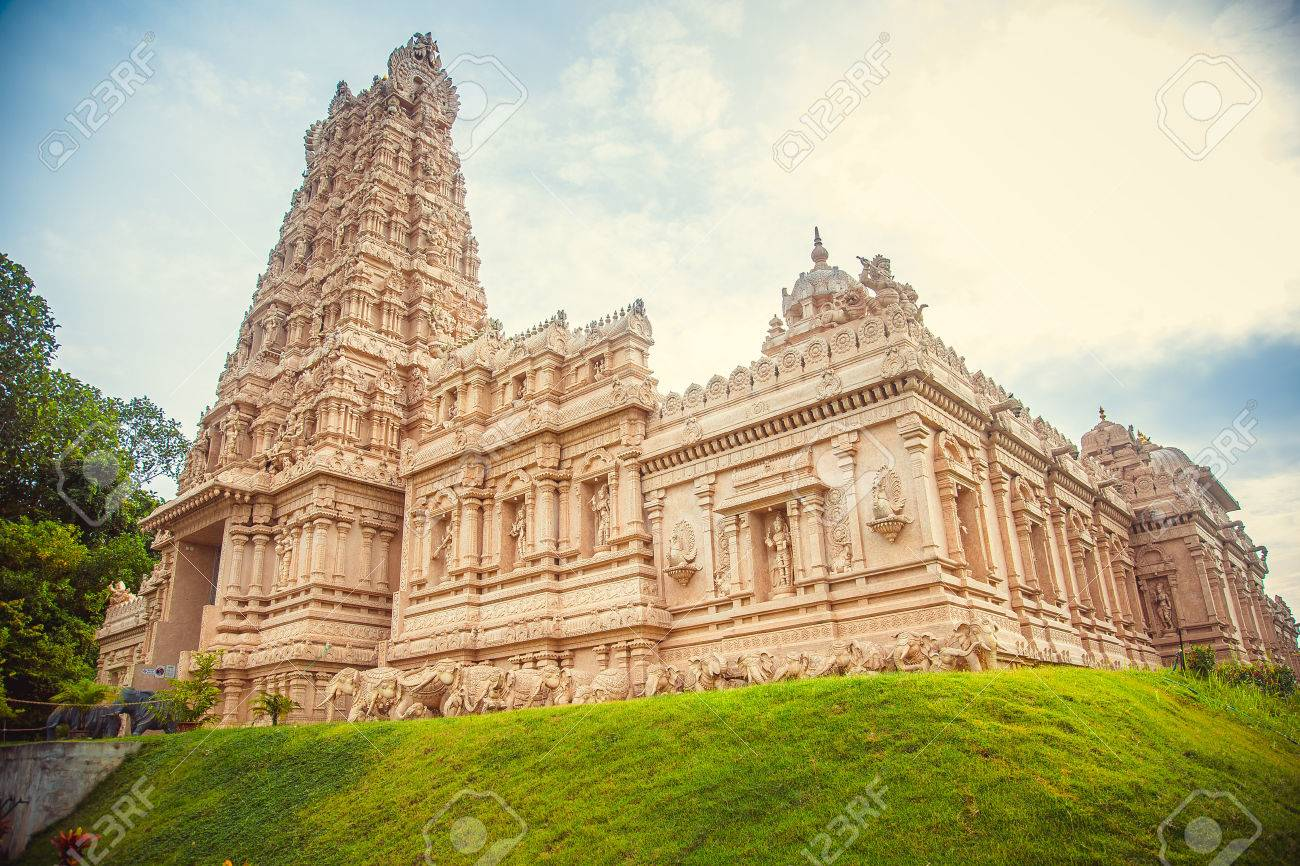Hindu Temple: (107, 47, 1290, 671)
